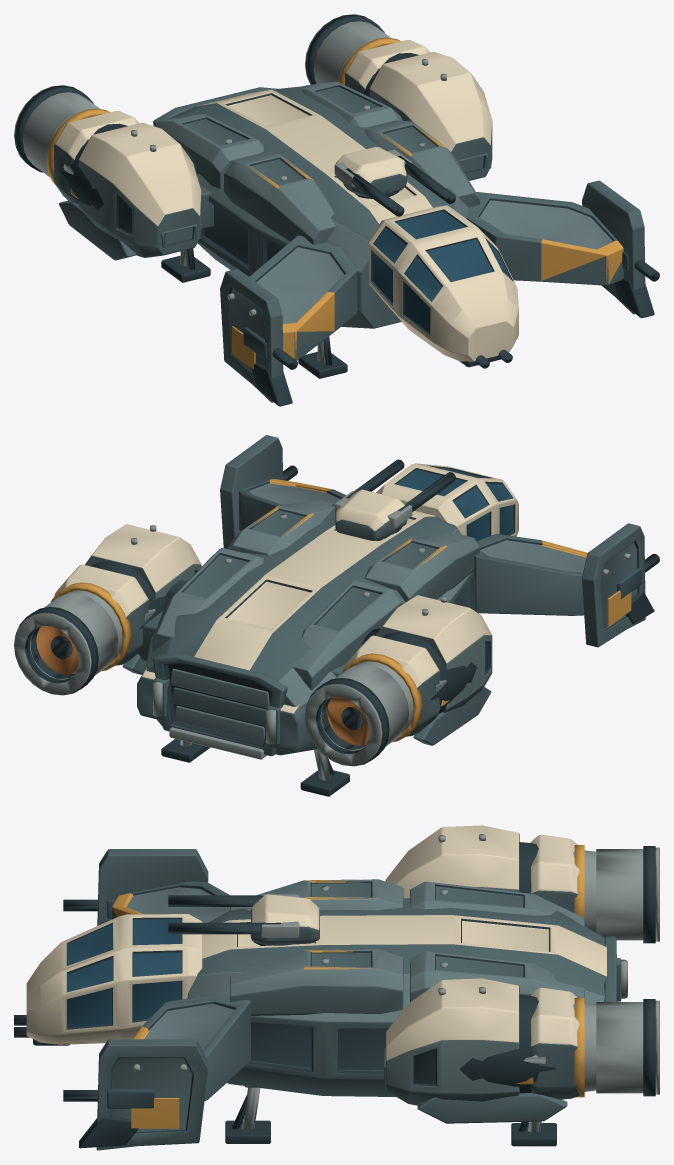
Rendered from cutlass_01.glb.
The picture shows the model from 3 angles, top to bottom: view 1: azimuth 30°, elevation 25°; view 2: azimuth 150°, elevation 25°; view 3: azimuth 270°, elevation 25°; orthographic projection. The views are drawn at different scales.
Visible parts, largest first — view 1: cutlass_01; view 2: cutlass_01; view 3: cutlass_01.
Boxes of the visible parts, x1=… form: cutlass_01: x1=14, y1=14, x2=659, y2=406; cutlass_01: x1=14, y1=435, x2=659, y2=796; cutlass_01: x1=14, y1=825, x2=659, y2=1150.
Bounding box in the file's own units: 11.66 × 5.44 × 16.
